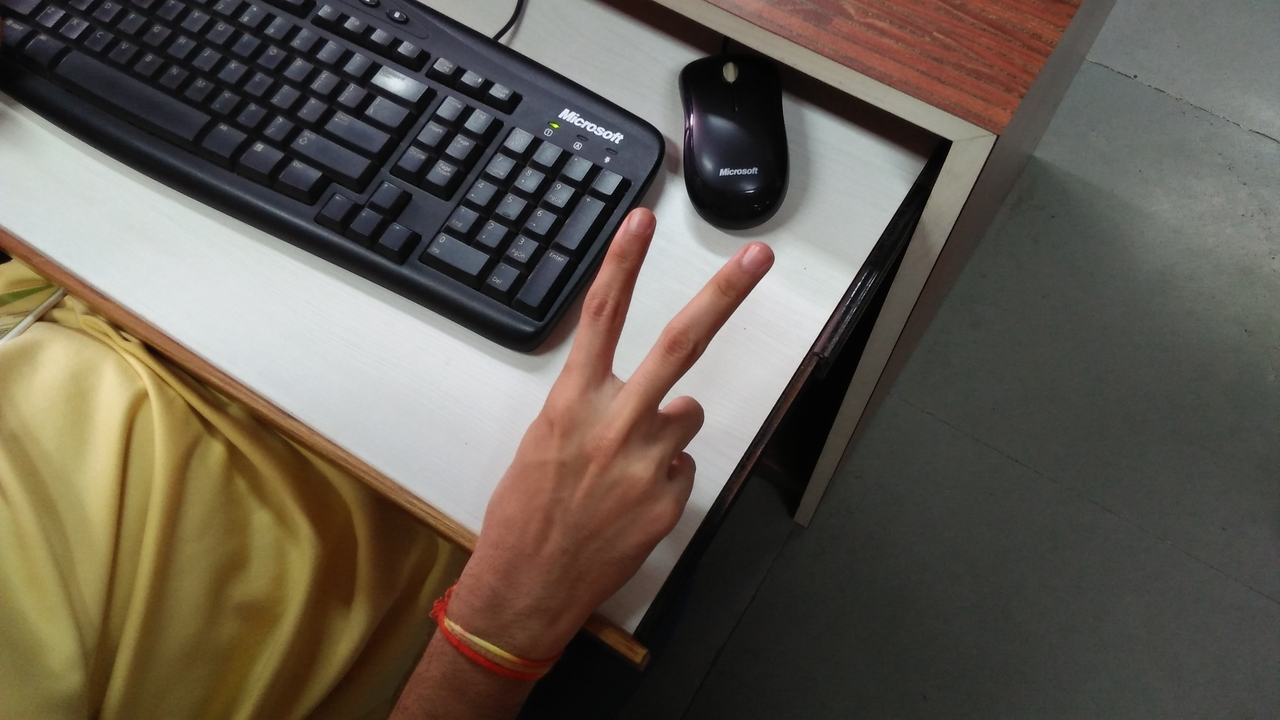fingertip: (718, 228, 776, 284), (606, 200, 664, 252)
